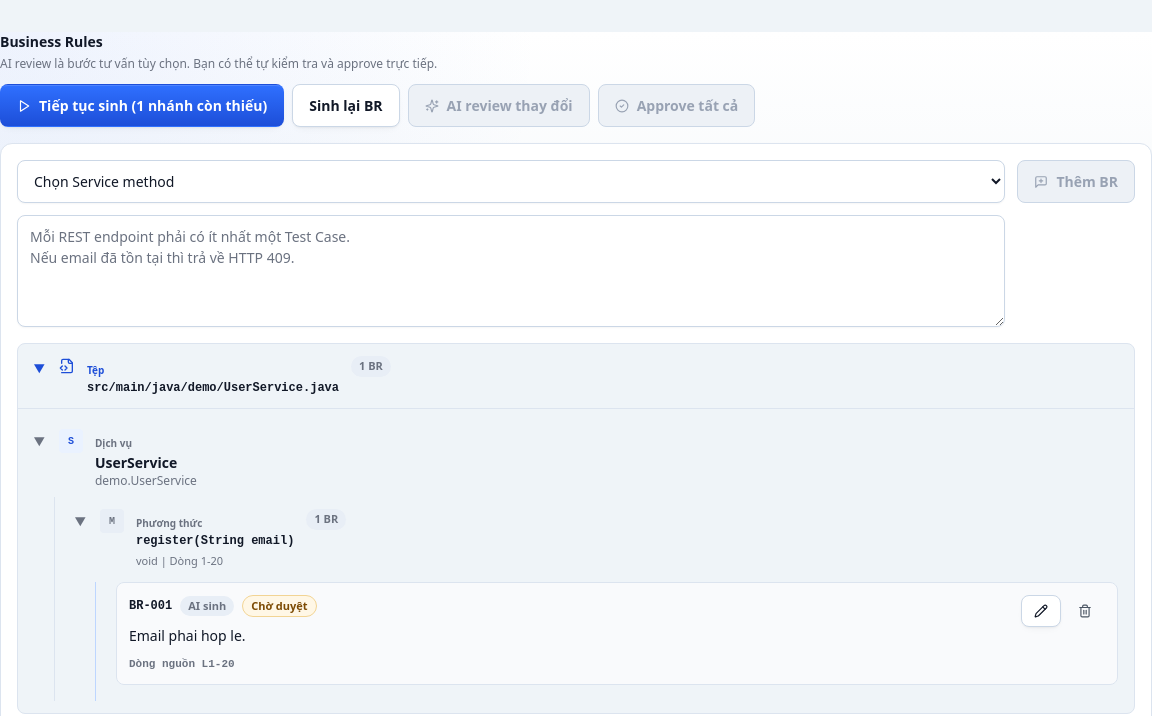
Test: BusinessRulesPanel › shows the background acceptance message without hiding the rule list
Click the button "Tiếp tục sinh (1 nhánh còn thiếu)" at coordinates (142, 106), box [0, 84, 284, 127]
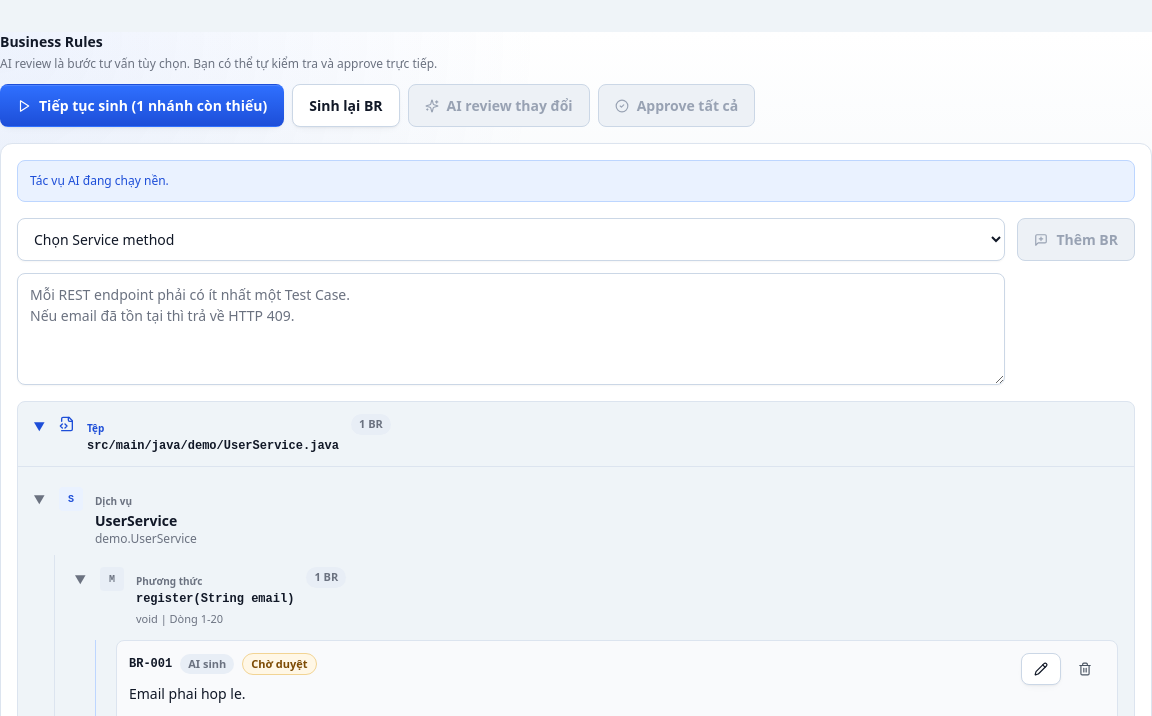
Check: the text "Tác vụ AI đang chạy nền." is shown, box [17, 160, 1135, 202]
